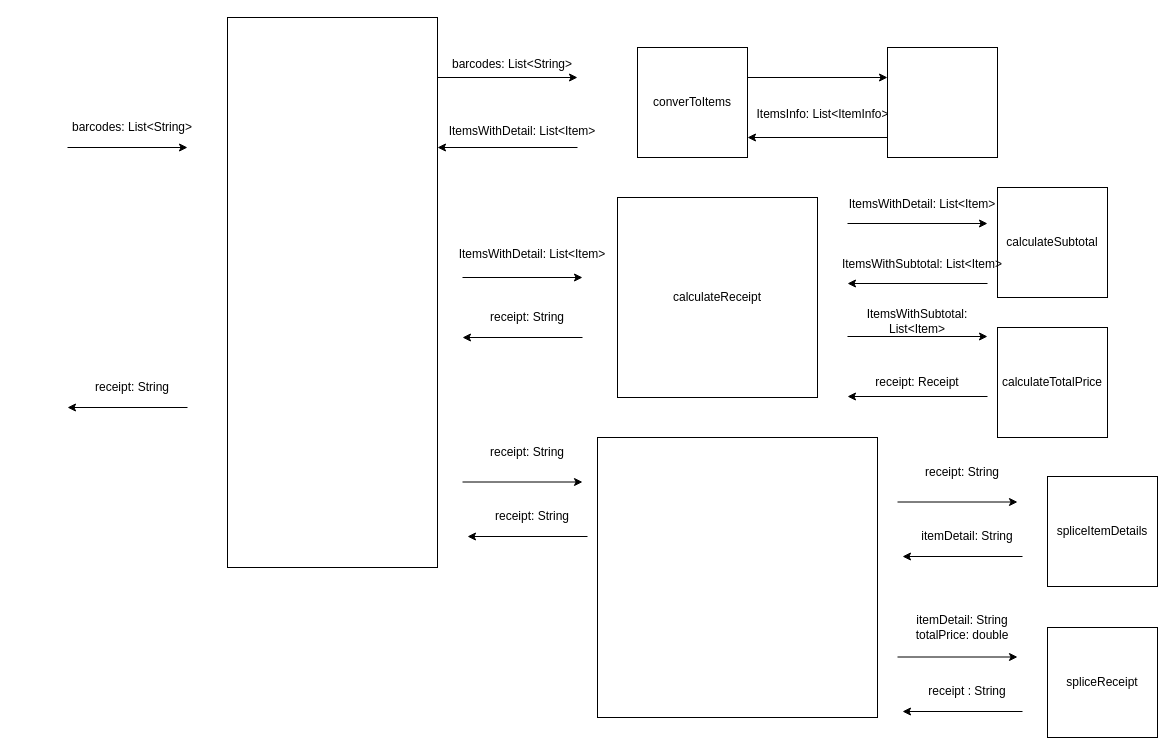
Some shapes in this 1175 by 755 pixel diagram are drawn without their labels. The shapes that lost their labels are listed below. From the top down, each one's centre as x and y in pixels, then its label:
At point (942, 102): "loadAllItemsInfo".
At point (332, 292): "printReceipt".
At point (737, 577): "renderReceipt".
